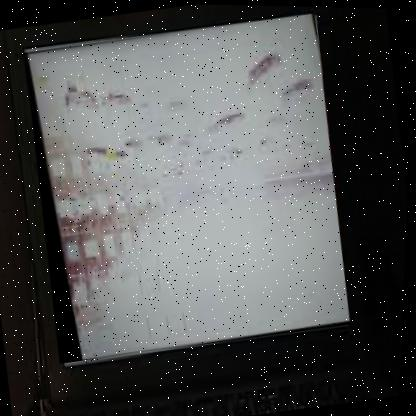fade: (13, 6, 365, 369)
